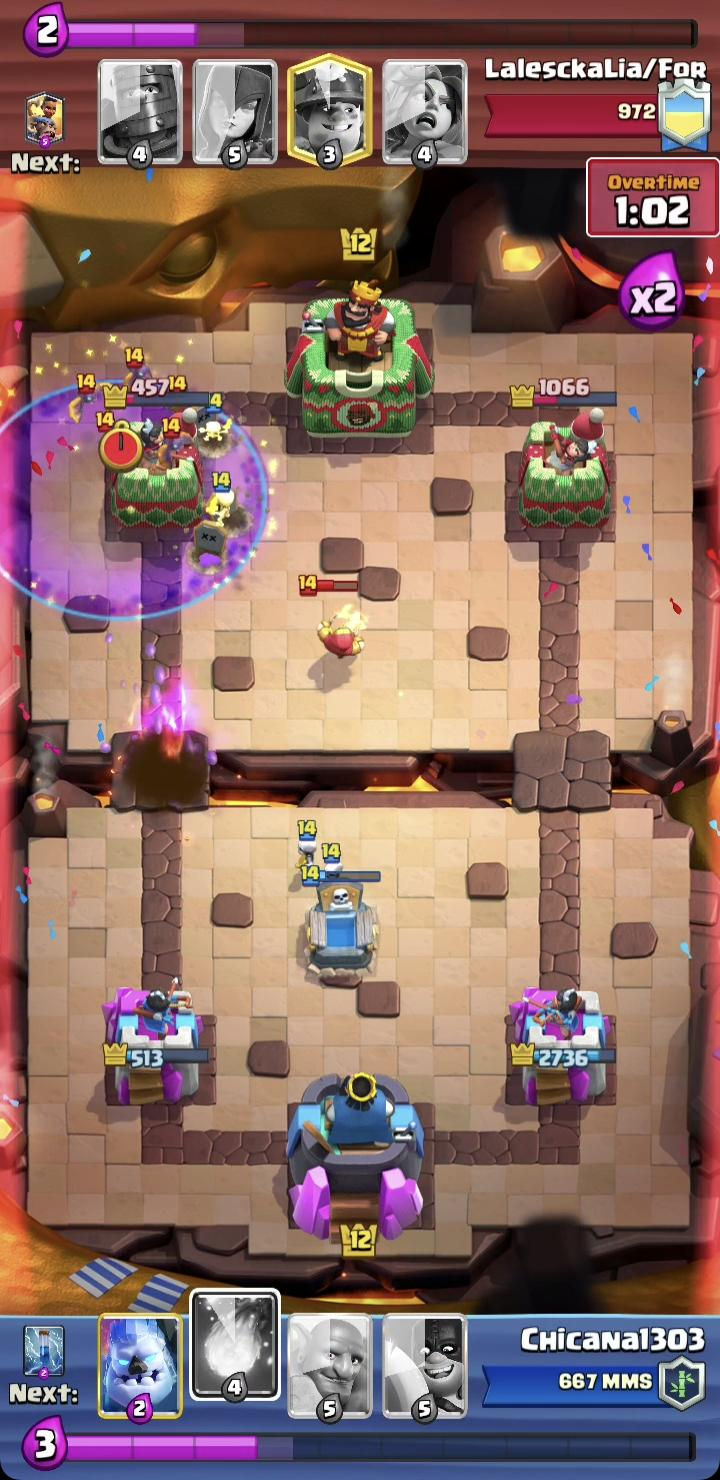ally_graveyard: (0, 380, 270, 619)
ally_skeleton: (206, 470, 235, 527), (200, 391, 231, 442), (296, 818, 318, 875), (321, 842, 343, 890)
ally_tombstone: (300, 863, 383, 982)
enemy_bat: (69, 374, 112, 421), (161, 417, 195, 463), (125, 347, 153, 391)
enemy_wizard: (296, 572, 367, 662)
